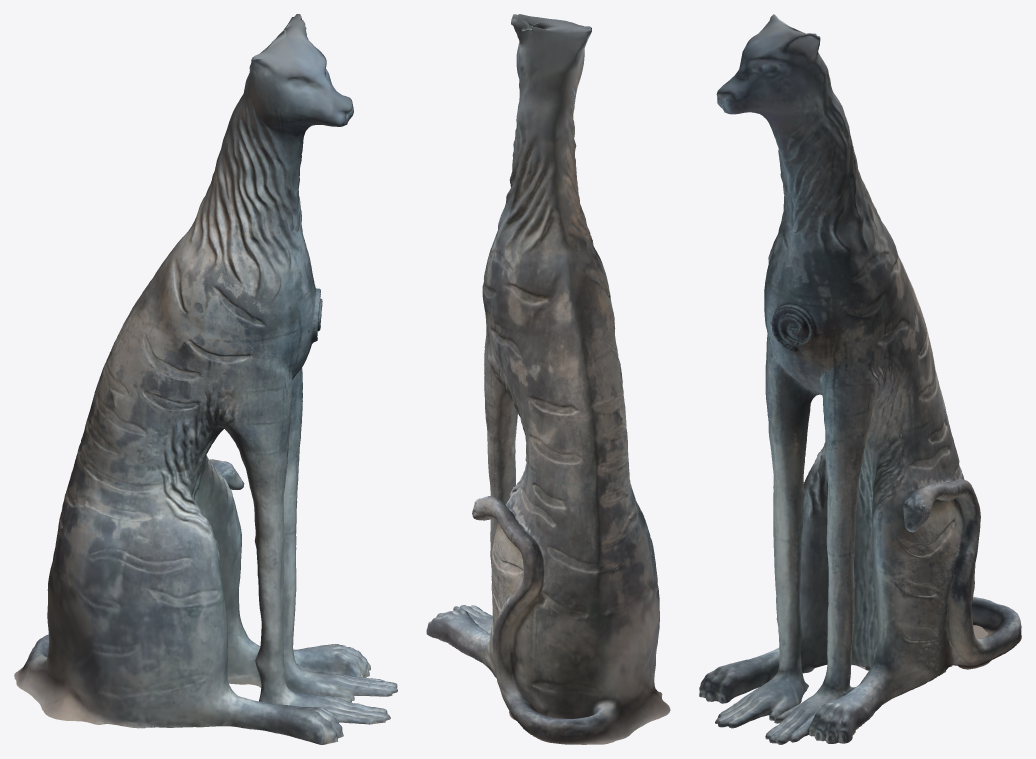
File: escultura_felina_webAR_optimizado.glb
3 renders of one model, left to right at view 1: azimuth 30°, elevation 25°; view 2: azimuth 150°, elevation 25°; view 3: azimuth 270°, elevation 25°, orthographic. The views are drawn at different scales.
Parts seen in each view (by area): view 1: 3DModel; view 2: 3DModel; view 3: 3DModel.
Boxes of the visible parts, x1,y1,x2,y2 form: 3DModel: (14, 14, 397, 744); 3DModel: (426, 14, 670, 744); 3DModel: (699, 14, 1021, 744).
Bounding box in the file's own units: 0.8969 × 2 × 0.8698.
1 material, 1 textured.
